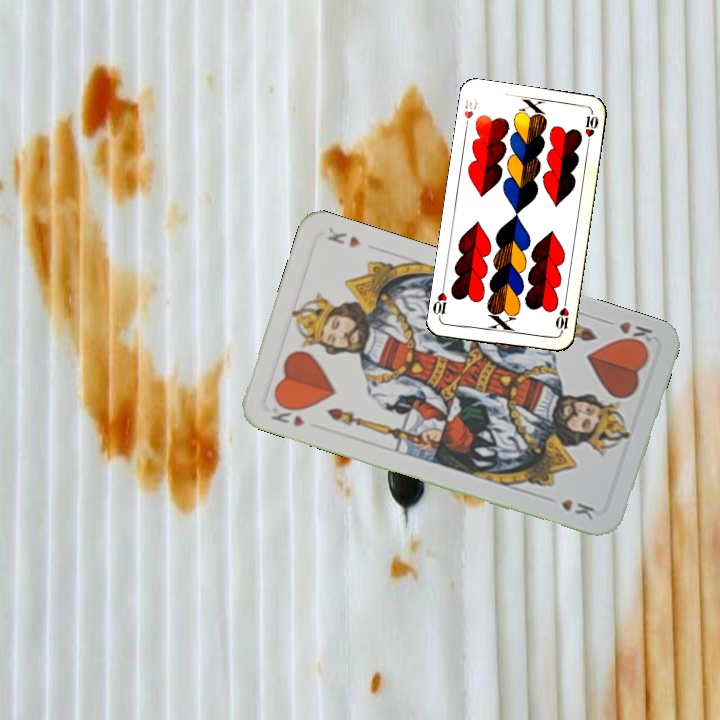H10: (551, 297, 572, 337), (460, 94, 481, 133)
HK: (599, 315, 656, 351), (267, 398, 307, 430)
